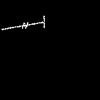treble_crochet: (2, 16, 44, 29)
